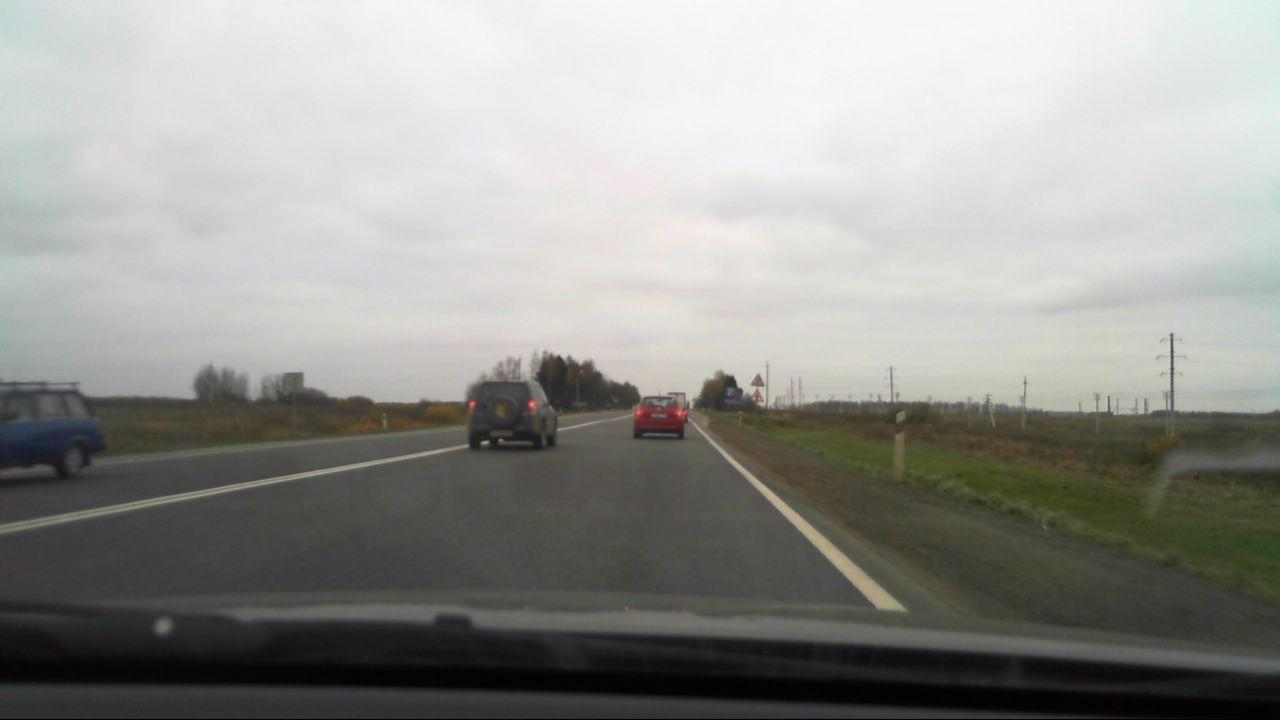1_22: (749, 374, 766, 386)
2_3_1: (747, 388, 765, 404)
3_27: (736, 387, 744, 396)
5_15_3: (726, 387, 736, 398)
